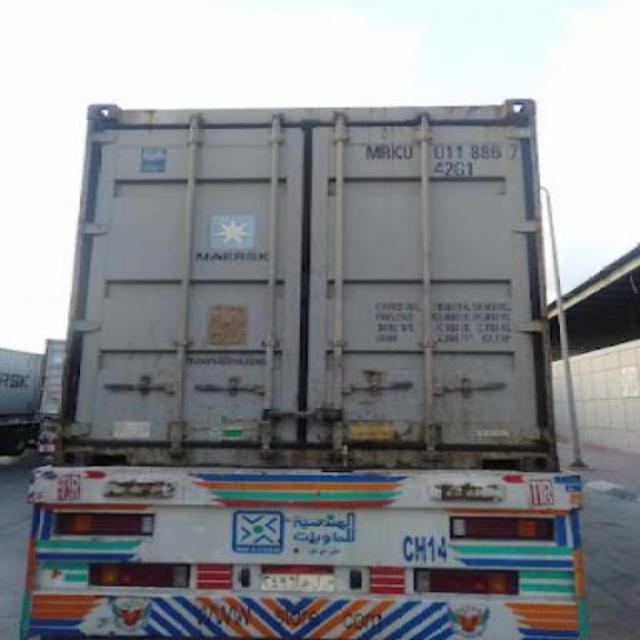0: (432, 144, 446, 160)
1: (444, 144, 456, 160), (456, 144, 466, 160)
6: (490, 144, 502, 160)
7: (508, 143, 518, 159)
8: (470, 144, 480, 160), (480, 144, 490, 160)
K: (390, 144, 402, 160)
M: (364, 144, 382, 162)
R: (380, 144, 390, 160)
U: (402, 144, 414, 160)
